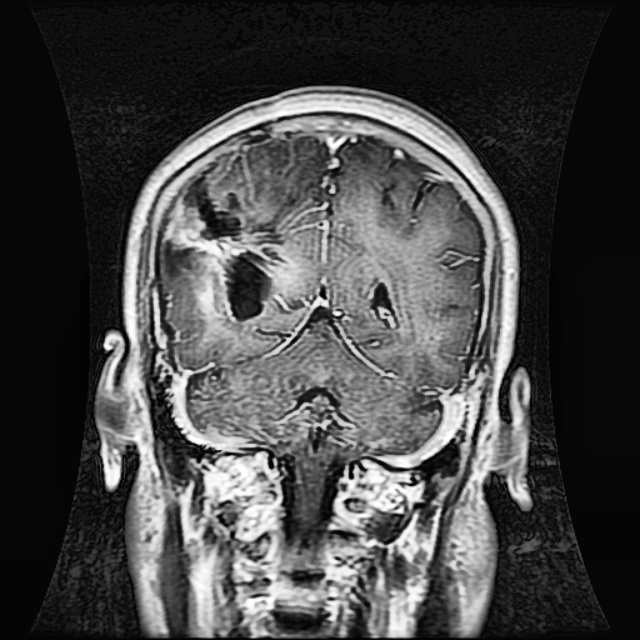Meningioma: (165, 163, 282, 318)
